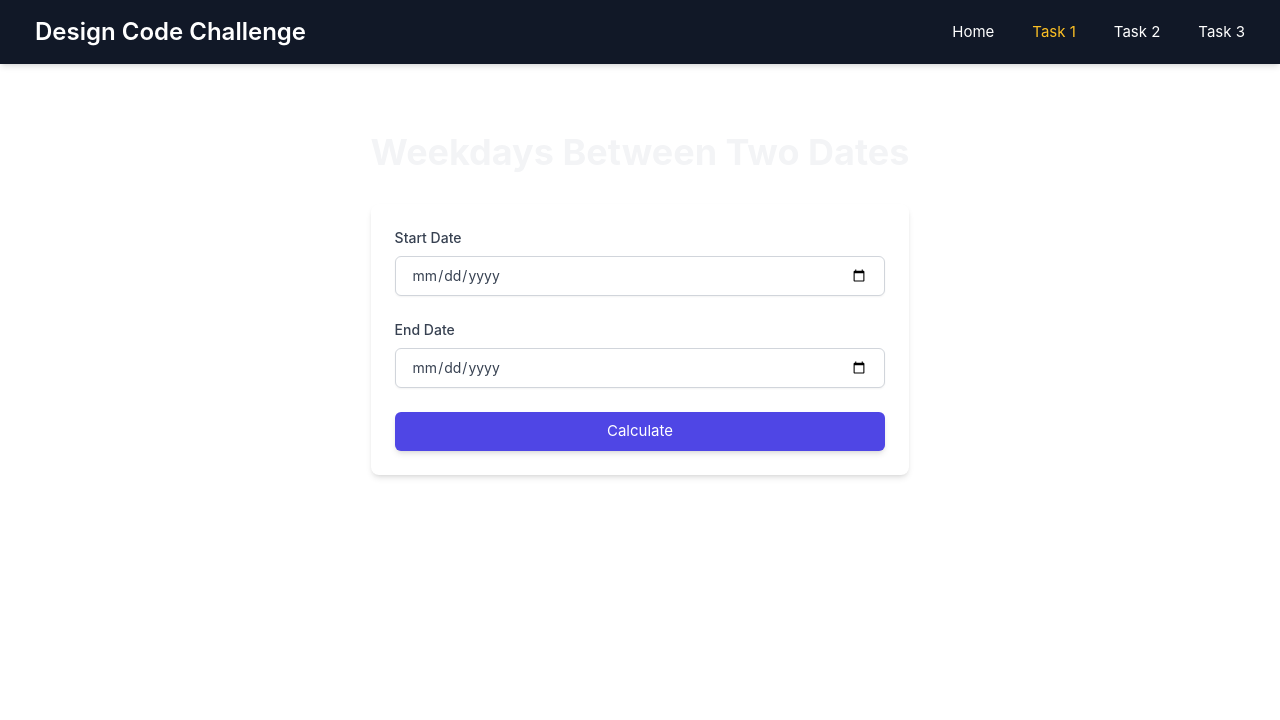
Test case: Task 1 › should calculate weekdays between two dates
Step 1. Type "2024-12-23" into the date field with test id "start-date" → [641, 276], box [395, 256, 886, 296]
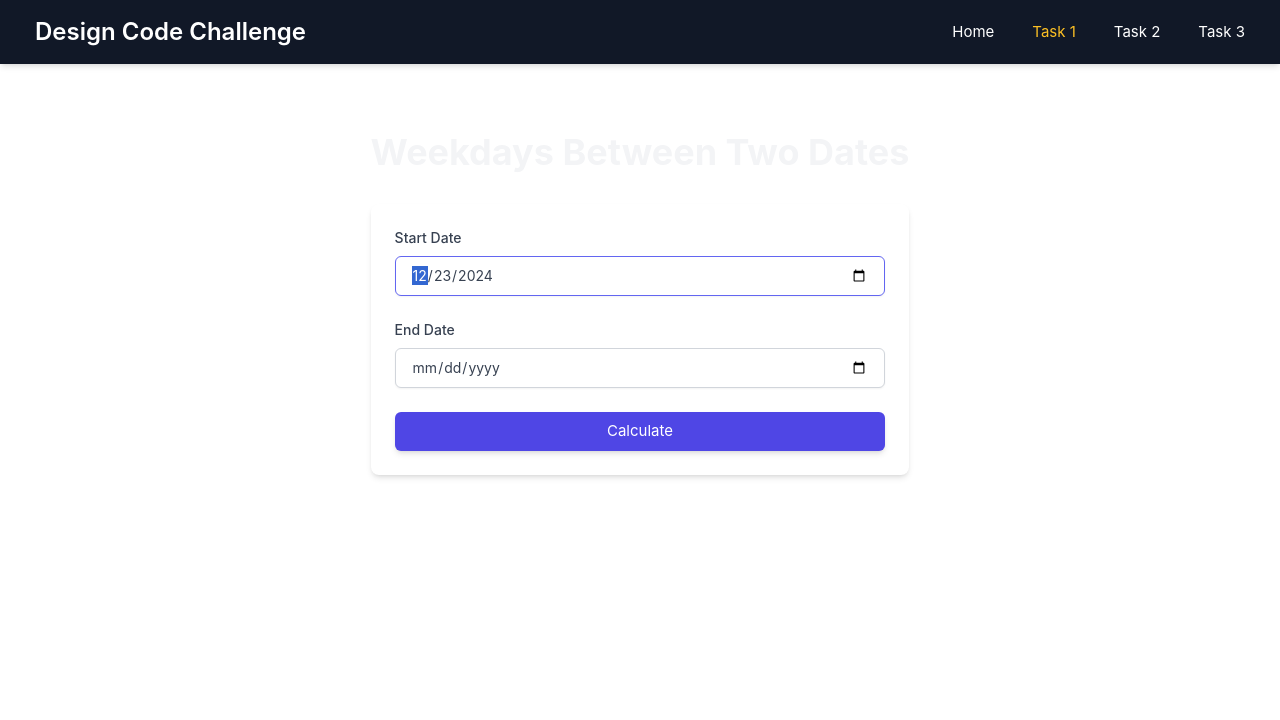
Step 2. Type "2024-12-29" into the date field with test id "end-date" → [641, 368], box [395, 348, 886, 388]
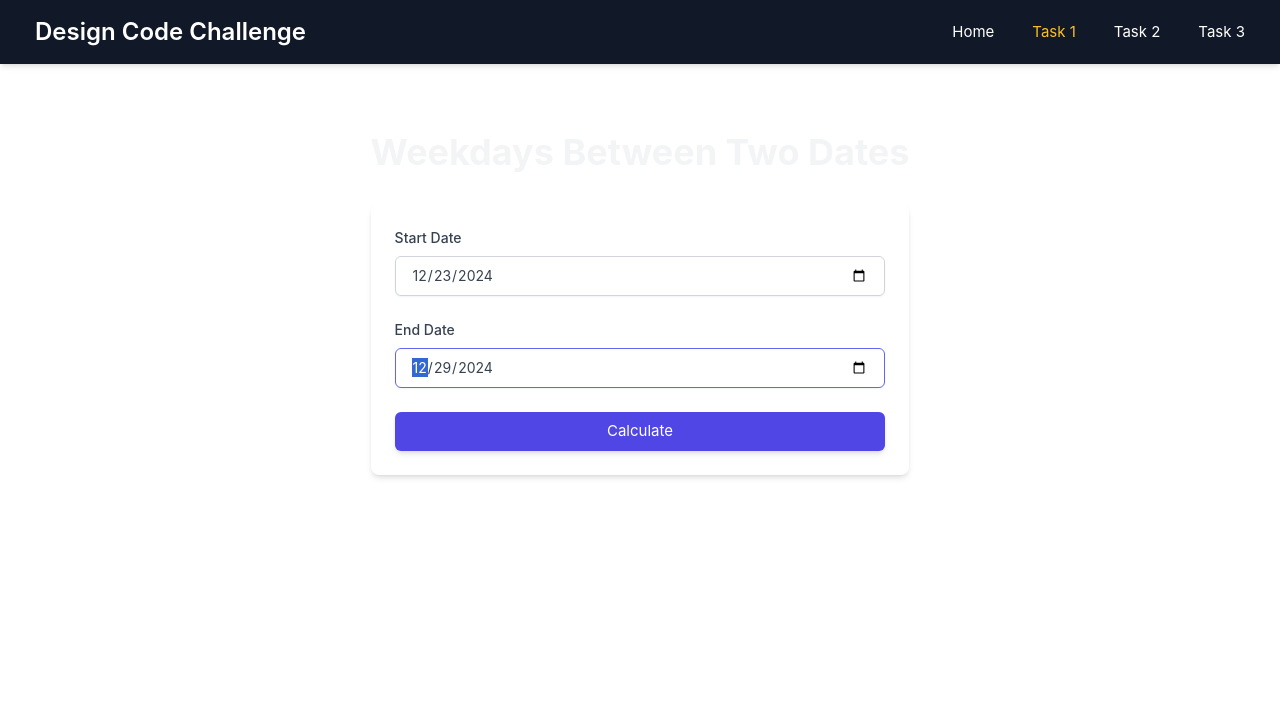
Step 3. Click the button with test id "submit" → [641, 432], box [395, 412, 886, 451]
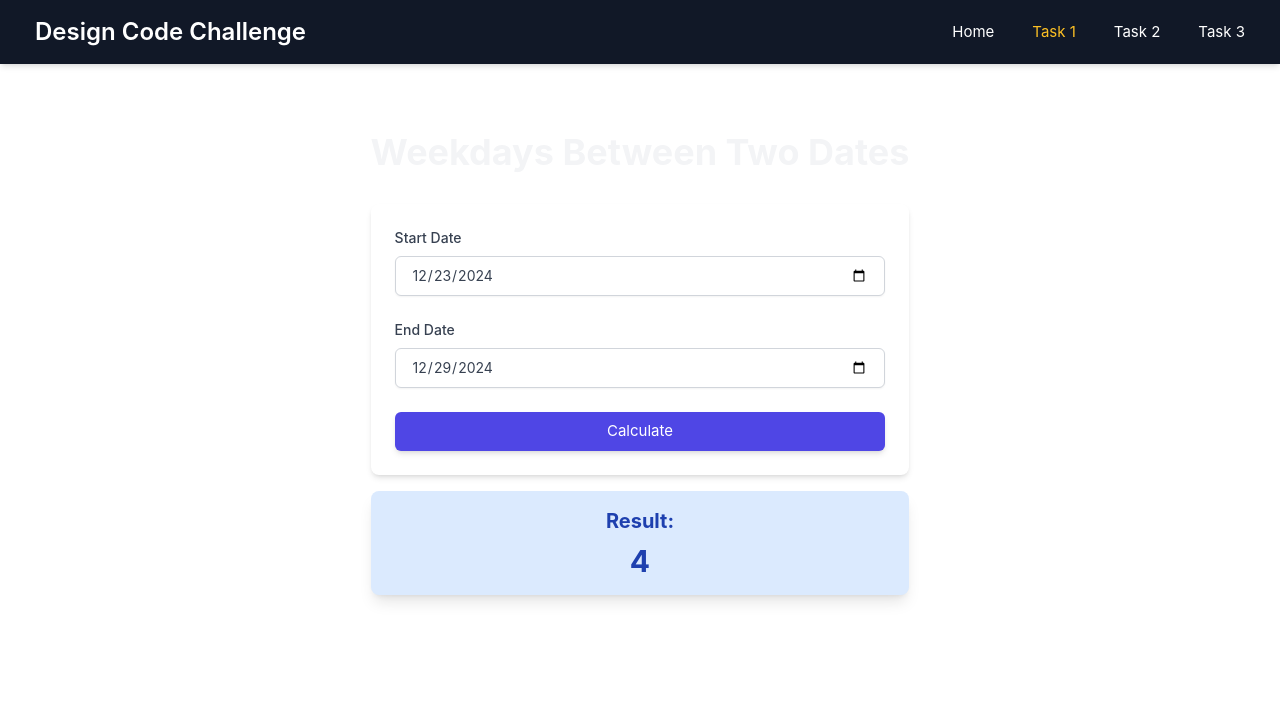
Check: the text with test id "result" reads "Result:", box [606, 509, 674, 533]
Check: the text with test id "result" reads "4", box [630, 543, 650, 579]
